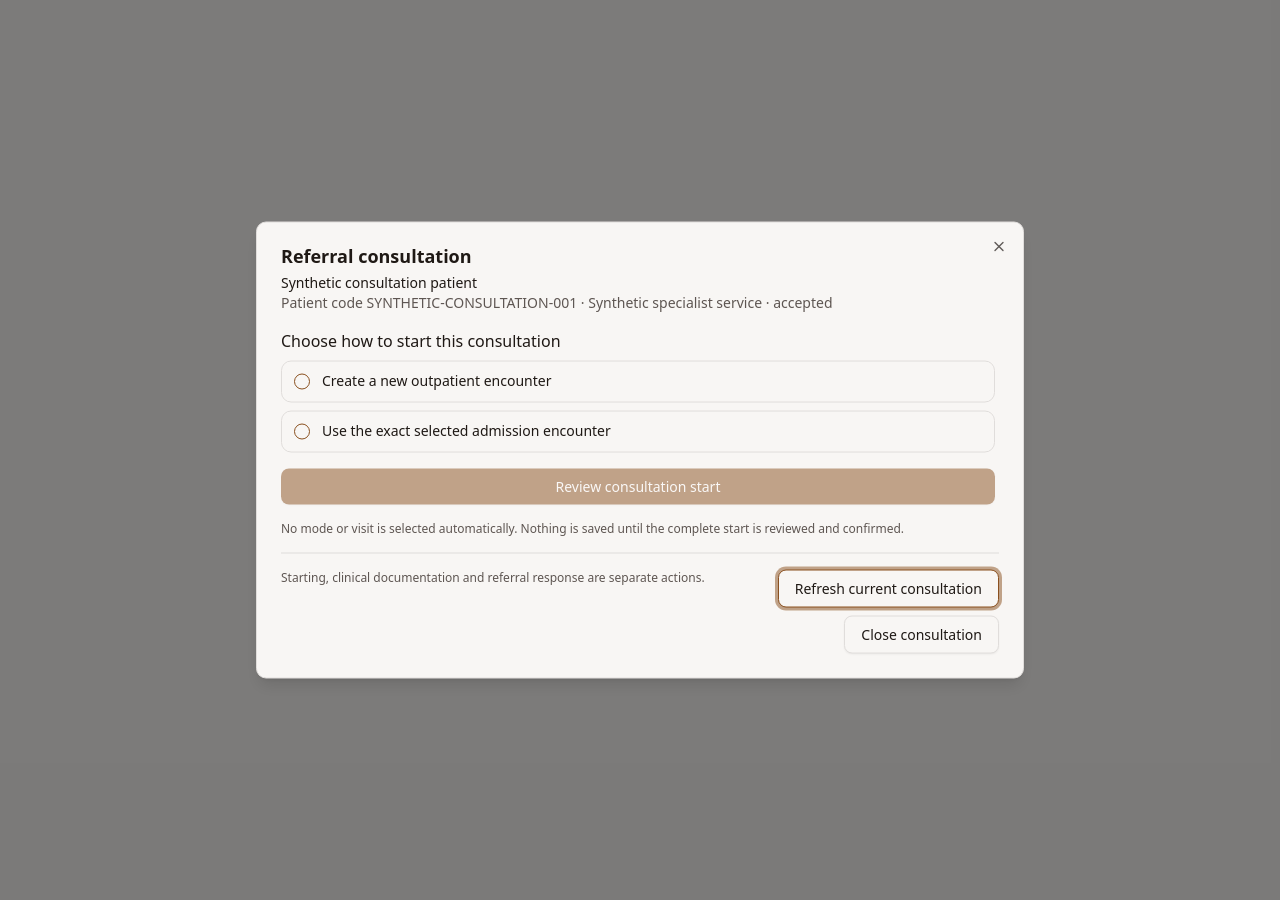
cannot choose an admission from all-history selection and never substitutes active encounter
Click the 2nd radio button named "Use the exact selected admission encounter": click(302, 432) [294, 424, 310, 440]
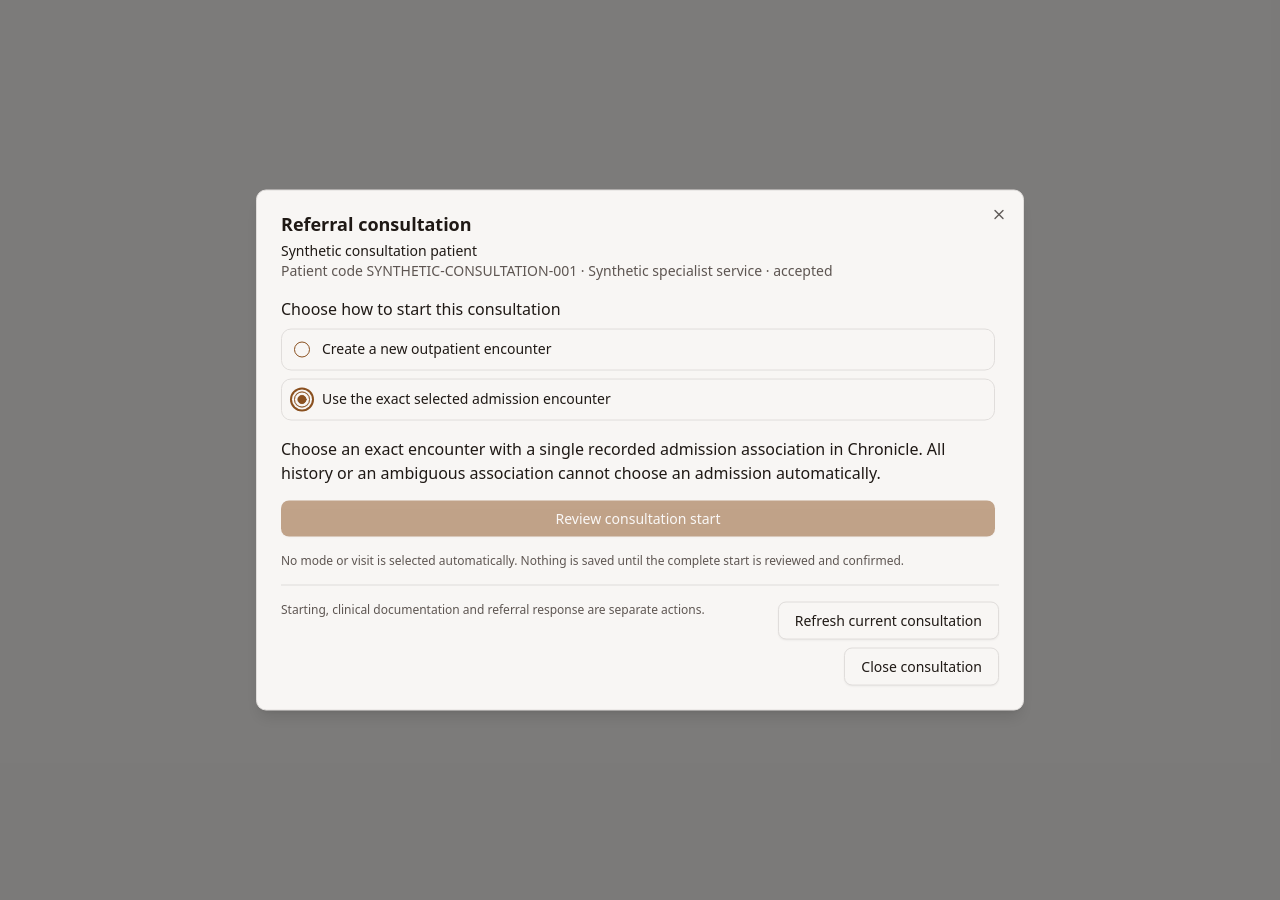
Check: the text "All history or an ambiguous association" is shown, box [281, 438, 945, 484]
